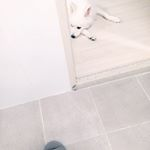puppy: (68, 1, 123, 44)
